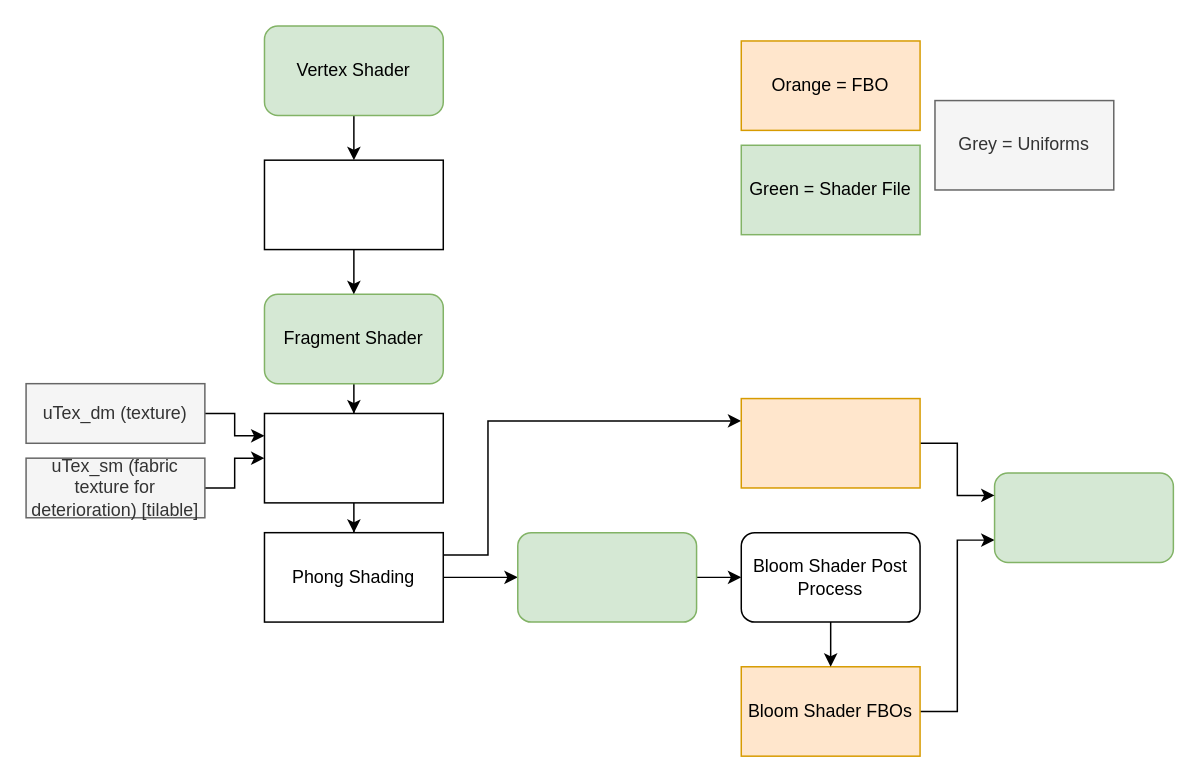
The diagram is 1199 pixels wide and 782 high, and some of its shapes have lost their labels. Each missing label, with the centre of its shape:
Add curves to flag shape: (x=353, y=204)
Composite Shader: (x=1083, y=517)
Deterioration shader to affect texture exclusively: (x=353, y=457)
Frag Shader FBO: (x=830, y=442)
Post Processing: (x=606, y=576)
